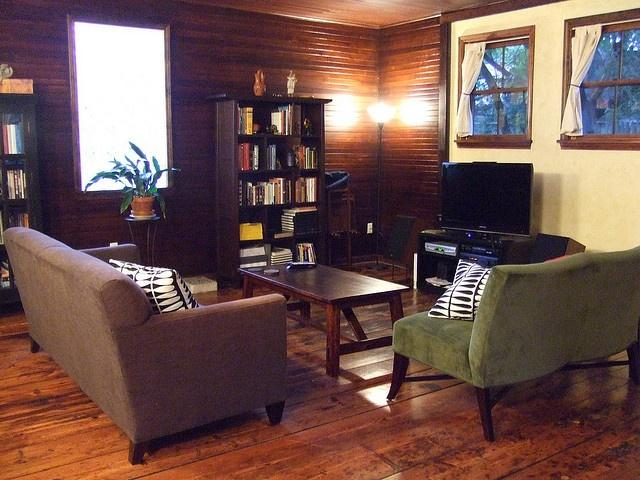AIO PC-Monitor-TV: (437, 160, 534, 241)
Meja: (236, 260, 411, 375)
Rak: (205, 92, 326, 277)
